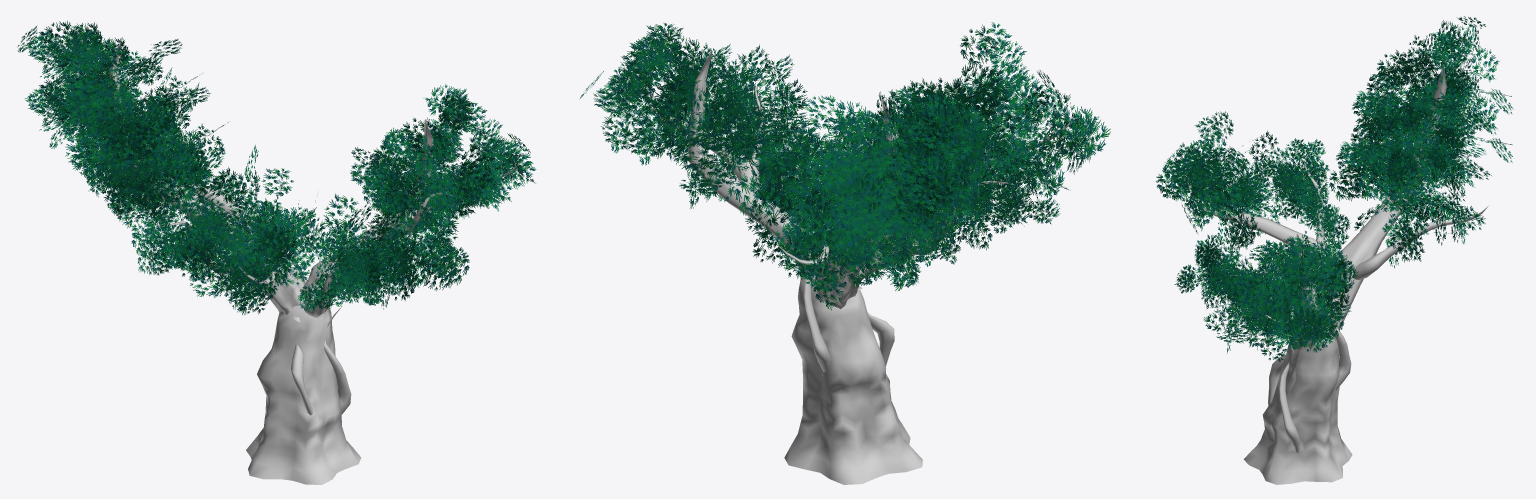
The model's file is tree_fat1.obj.
3 renders of one model, left to right at view 1: azimuth 30°, elevation 25°; view 2: azimuth 150°, elevation 25°; view 3: azimuth 270°, elevation 25°, orthographic. The views are drawn at different scales.
Parts seen in each view (by area): view 1: Tree_1.112, Tree_0.077, Tree_1.113, Tree_1.109, Tree_1.106, Tree_1.107, Tree_1.108, Tree_1.114, Tree_1.111, Tree_1.110, Tree_0.079, Tree_0.078 (+3 smaller); view 2: Tree_0.077, Tree_1.114, Tree_1.106, Tree_1.113, Tree_1.112, Tree_1.109, Tree_1.107, Tree_1.108, Tree_1.110, Tree_0.078, Tree_0.079, Tree_0.086 (+2 smaller); view 3: Tree_1.109, Tree_1.113, Tree_0.077, Tree_1.112, Tree_1.106, Tree_1.108, Tree_1.114, Tree_1.107, Tree_1.110, Tree_0.079, Tree_1.111, Tree_0.080 (+4 smaller).
Boxes of the visible parts, <box> form: Tree_1.112: <box>174,167,469,309</box>; Tree_0.077: <box>246,294,361,484</box>; Tree_1.113: <box>17,20,202,171</box>; Tree_1.109: <box>106,85,316,314</box>; Tree_1.106: <box>350,84,536,258</box>; Tree_1.107: <box>362,138,519,262</box>; Tree_1.108: <box>45,37,228,223</box>; Tree_1.114: <box>25,74,199,228</box>; Tree_1.111: <box>298,236,411,312</box>; Tree_1.110: <box>131,201,235,275</box>; Tree_0.079: <box>109,41,322,319</box>; Tree_0.078: <box>291,119,433,322</box>; Tree_0.077: <box>784,275,922,484</box>; Tree_1.114: <box>793,141,996,310</box>; Tree_1.106: <box>579,23,799,239</box>; Tree_1.113: <box>793,78,997,247</box>; Tree_1.112: <box>731,22,1070,263</box>; Tree_1.109: <box>749,84,1110,293</box>; Tree_1.107: <box>601,44,823,193</box>; Tree_1.108: <box>781,80,985,279</box>; Tree_1.110: <box>911,132,1062,266</box>; Tree_0.078: <box>688,50,862,290</box>; Tree_0.079: <box>816,97,908,309</box>; Tree_0.086: <box>803,255,830,374</box>; Tree_1.109: <box>1156,109,1485,268</box>; Tree_1.113: <box>1352,16,1513,195</box>; Tree_0.077: <box>1243,328,1352,484</box>; Tree_1.112: <box>1164,111,1351,362</box>; Tree_1.106: <box>1229,231,1358,348</box>; Tree_1.108: <box>1336,51,1497,245</box>; Tree_1.114: <box>1352,71,1512,243</box>; Tree_1.107: <box>1209,236,1337,352</box>; Tree_1.110: <box>1254,138,1350,250</box>; Tree_0.079: <box>1316,65,1446,329</box>; Tree_1.111: <box>1174,234,1283,309</box>; Tree_0.080: <box>1185,164,1330,277</box>.
Bounding box in the file's own units: 27.3 × 25.47 × 22.88.
